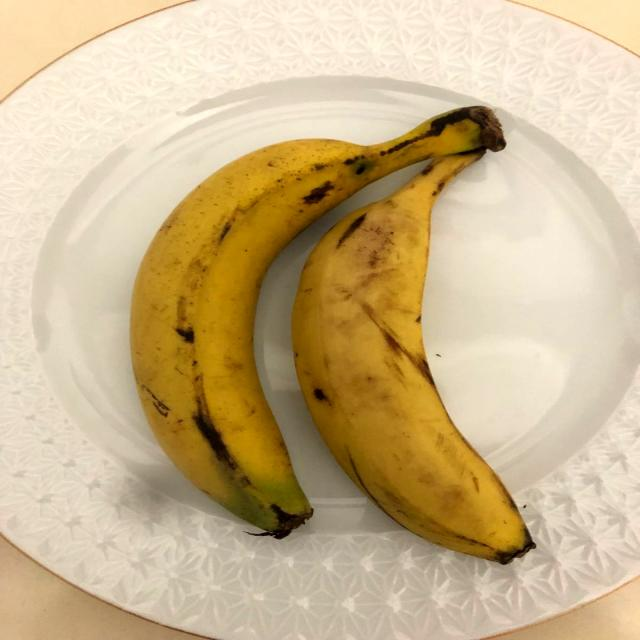banana: (125, 96, 528, 571), (287, 140, 537, 575)
